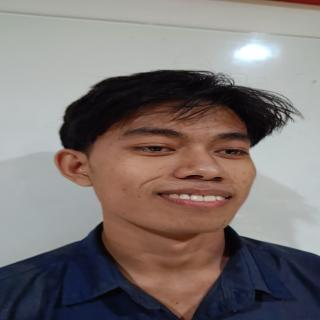Senang: (87, 87, 262, 241)
